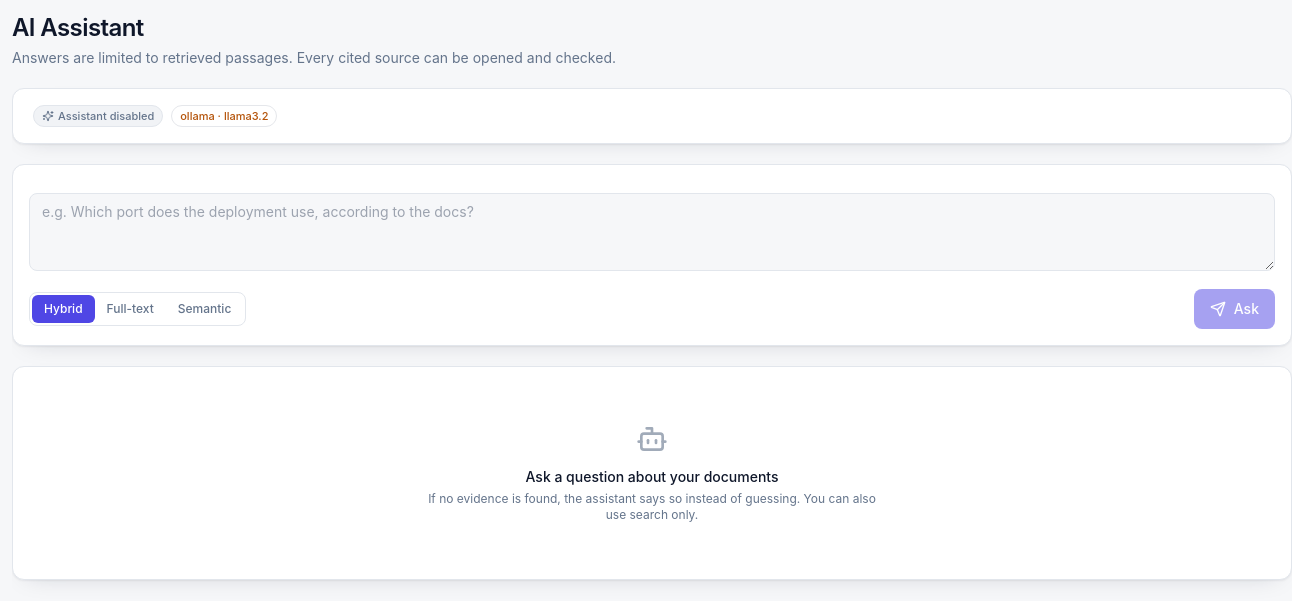
Test: Assistant page › renders the search-only fallback without claiming a grounded answer
In the text box named "Question": (652, 232) left=29, top=193, right=1275, bottom=271, type "What port?"
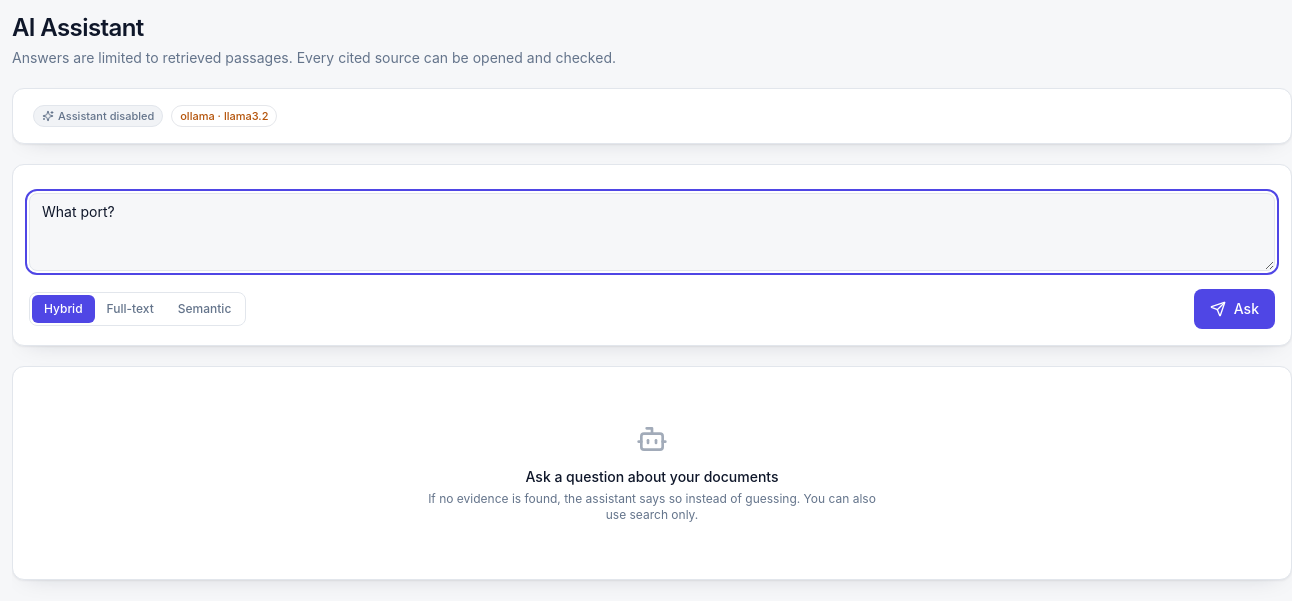
Click the button "Ask": (1234, 309) left=1194, top=289, right=1275, bottom=329
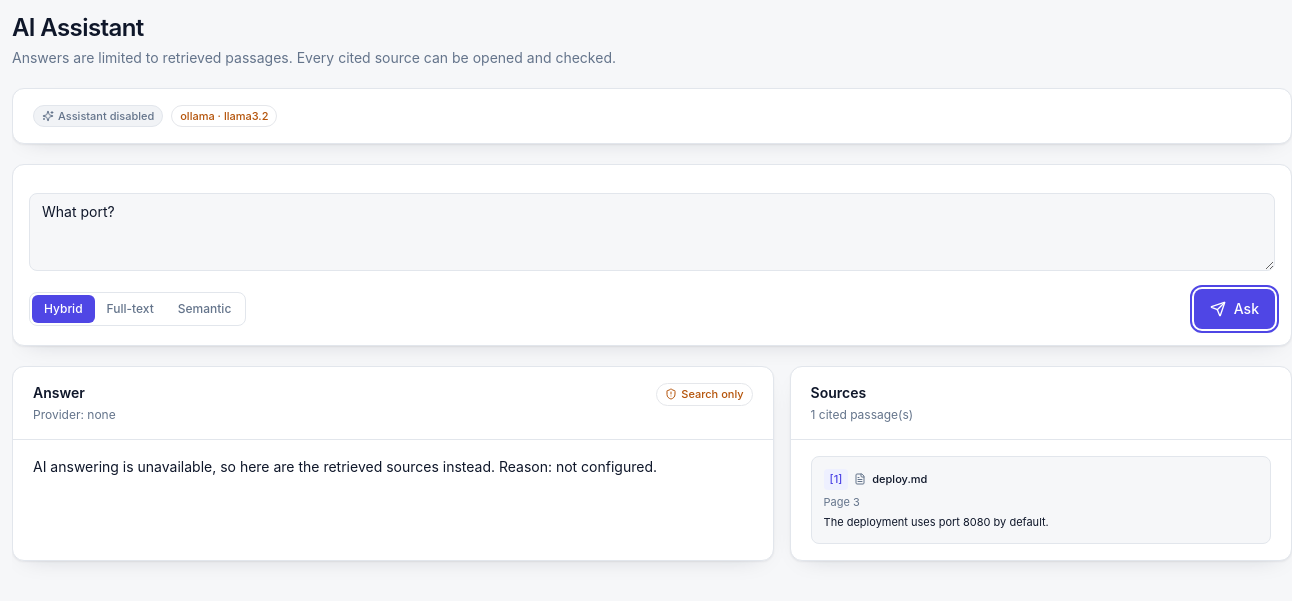
Expected: the text "Search only" is shown, left=656, top=383, right=753, bottom=406
Result: the text "AI answering is unavailable" is shown at left=33, top=458, right=657, bottom=475
